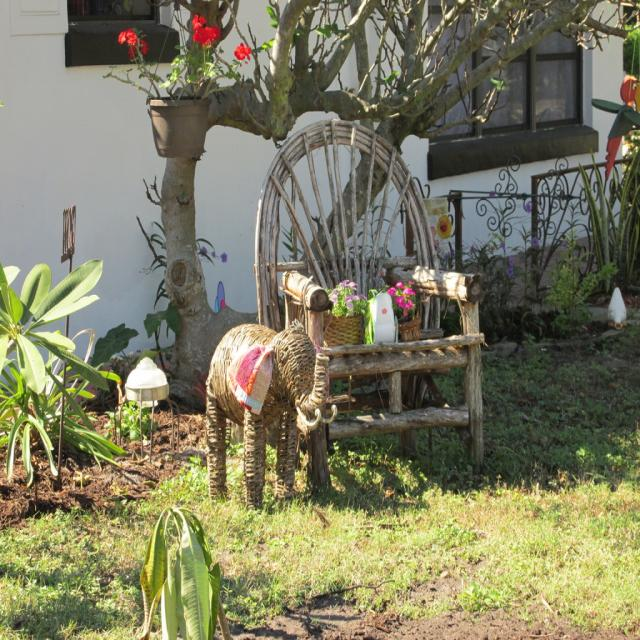elephant: (210, 319, 330, 505)
